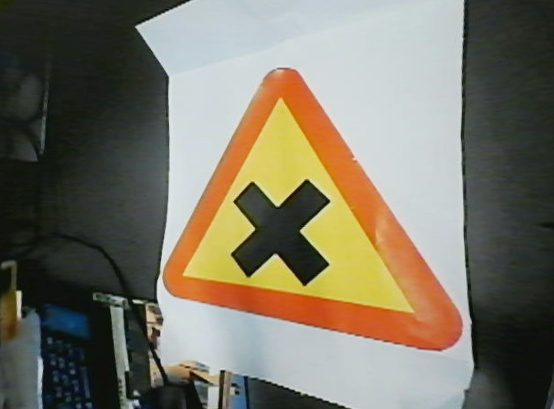junction: (169, 68, 464, 355)
